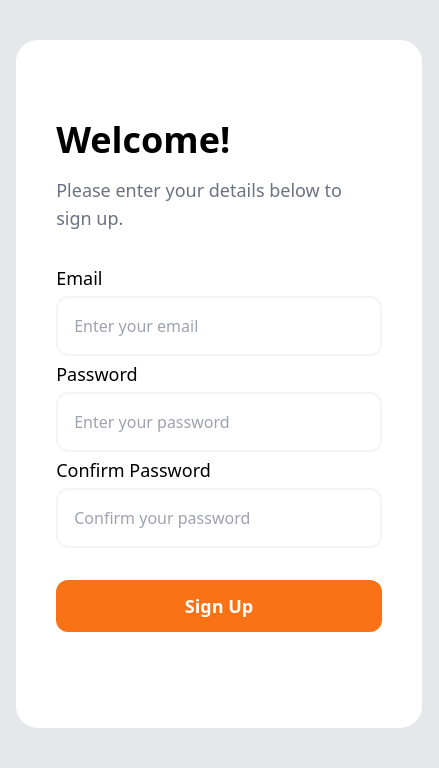
it: Signup Component › shows error if passwords do not match
Expected: the password field with placeholder "Enter your password" is shown, [56,392,382,452]
Expected: the password field labelled "Confirm Password" is shown, [56,488,382,548]
Type "test@example.com" into the field labelled "Email" at (219, 326), box [56,296,382,356]
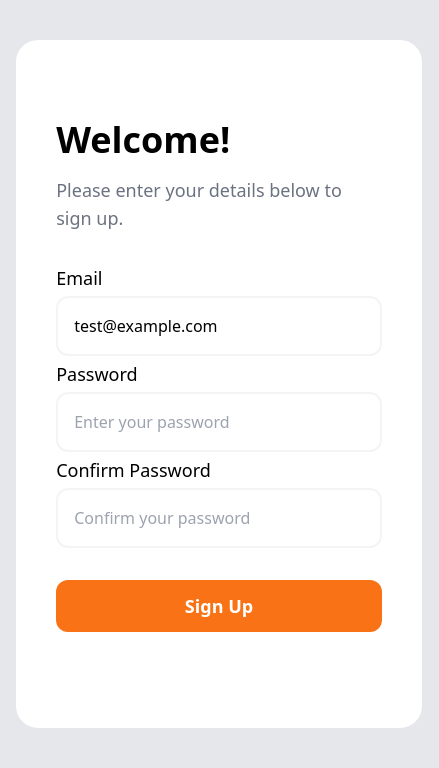
Type "password123" into the password field with placeholder "Enter your password" at (219, 422), box [56,392,382,452]
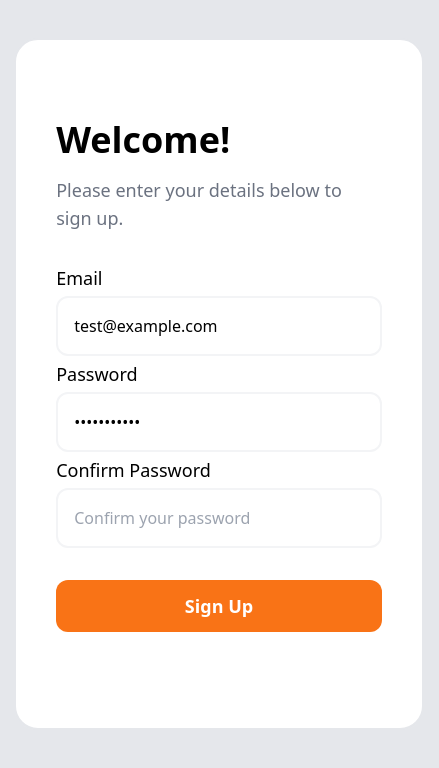
Type "password124" into the password field labelled "Confirm Password" at (219, 518), box [56,488,382,548]
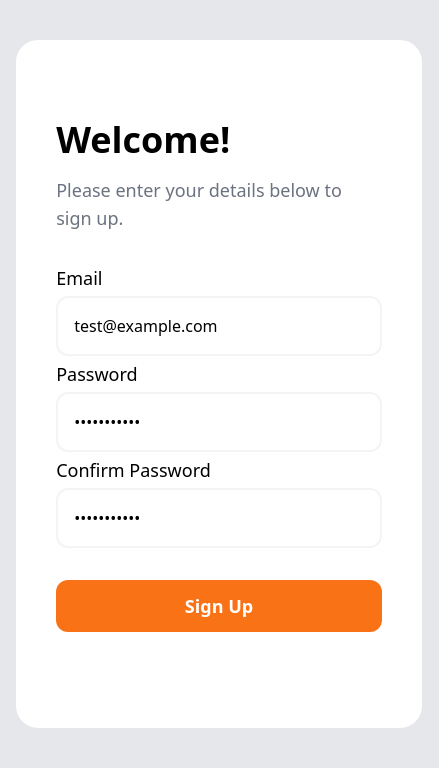
Click the button "Sign Up" at (219, 606), box [56,580,382,632]
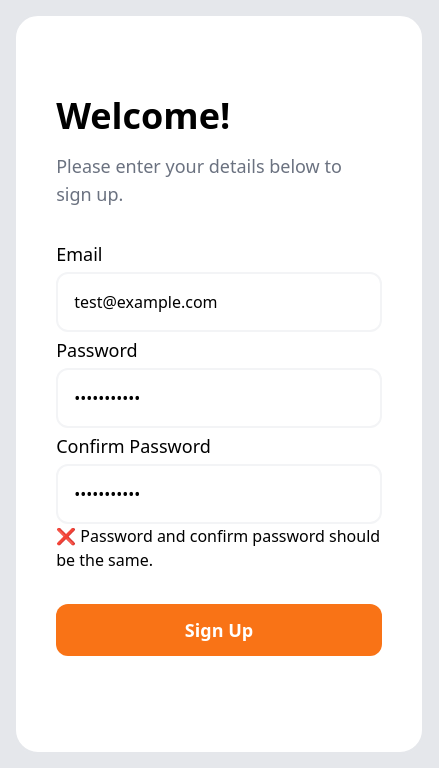
Now the text "❌ Password and confirm password should be the same." is shown, box [56,525,380,571]
